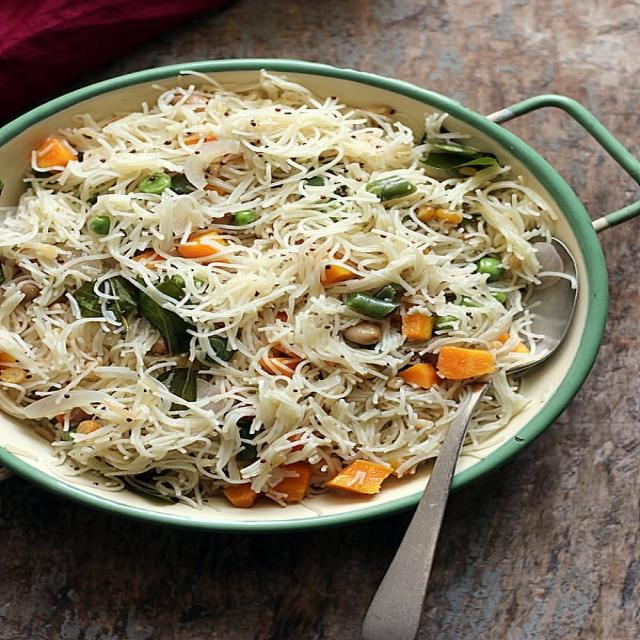POHA: (0, 74, 560, 505)
